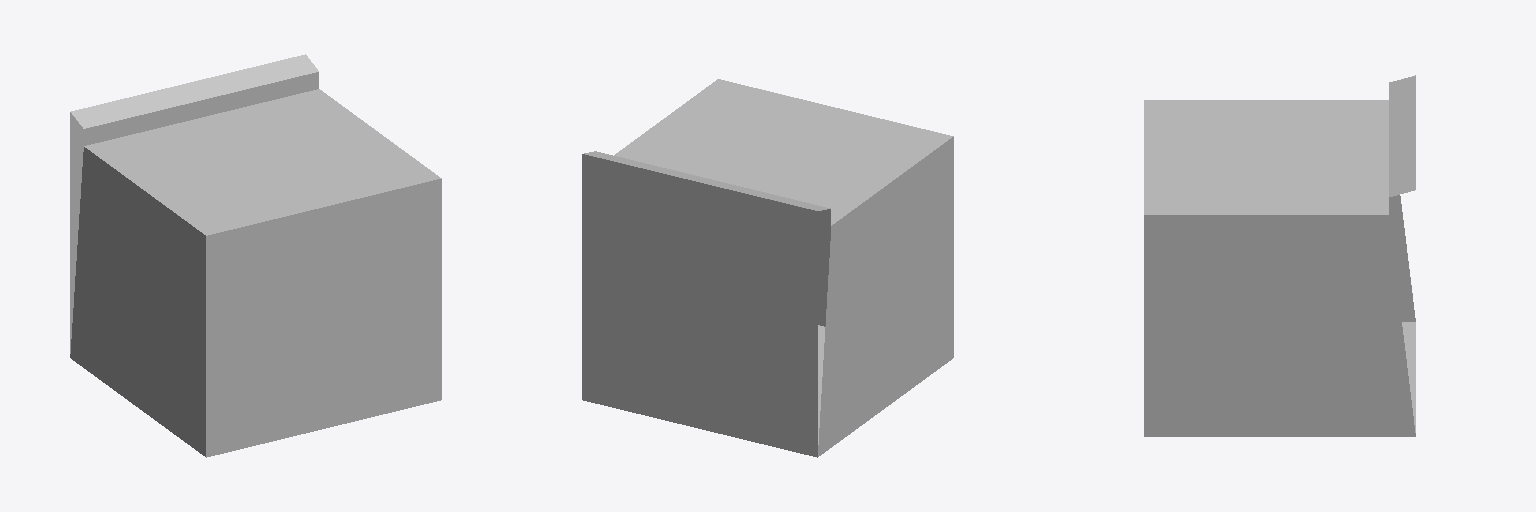
Rendered from screen1Quarters.obj.
The picture shows the model from 3 angles: view 1: azimuth 30°, elevation 25°; view 2: azimuth 150°, elevation 25°; view 3: azimuth 270°, elevation 25°; orthographic projection.
Parts seen in each view (by area): view 1: main; view 2: main; view 3: main.
Part boxes in pixels (bbox=[...]): main: bbox=[70, 54, 441, 457]; main: bbox=[582, 79, 953, 457]; main: bbox=[1144, 75, 1415, 436].
Size of the model in its own units: 1 by 1 by 1.